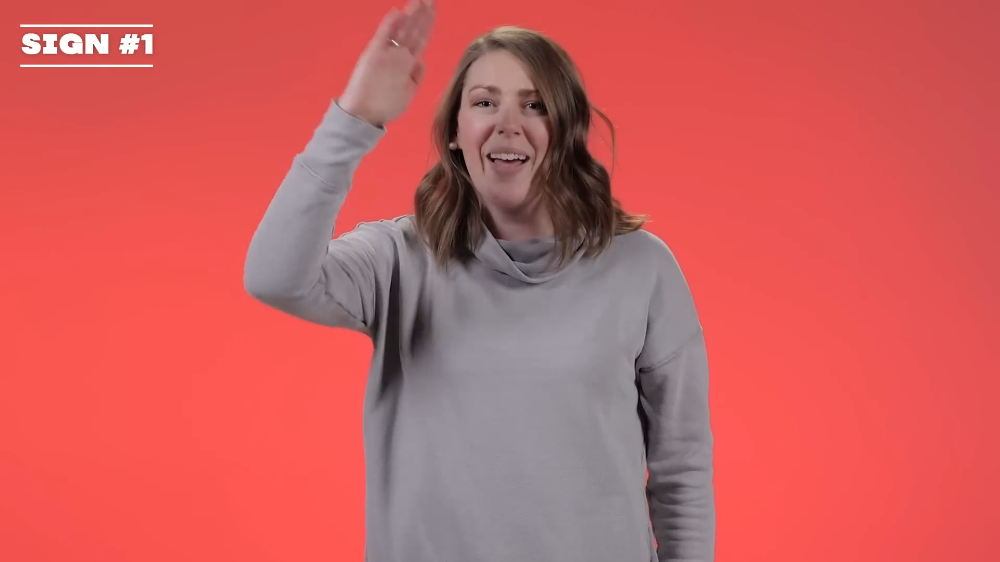hello: (346, 1, 440, 129)
